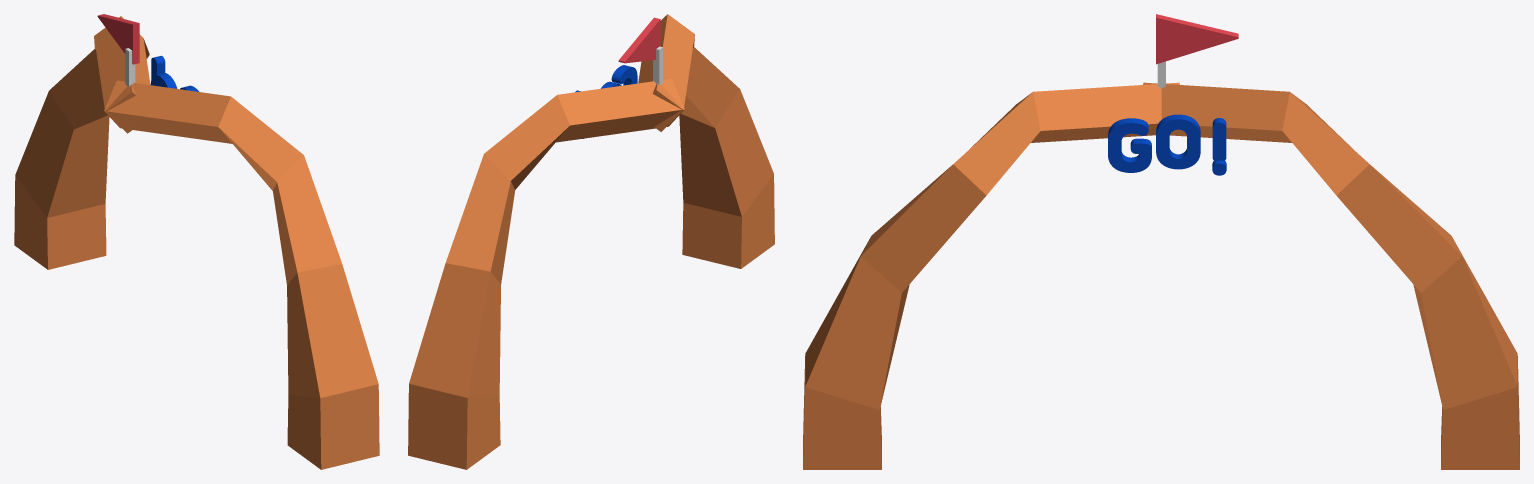
Rendered from startLine.fbx.
3 views of the same model, side by side, from view 1: azimuth 30°, elevation 25°; view 2: azimuth 150°, elevation 25°; view 3: azimuth 270°, elevation 25° (orthographic). The views are drawn at different scales.
Visible parts, largest first — view 1: Cube, Plane; view 2: Cube, Plane, Curve; view 3: Cube, Plane, Curve, Curve.001, Curve.002.
Boxes of the visible parts, bbox=[...] form: Cube: bbox=[14, 16, 379, 469]; Plane: bbox=[97, 14, 139, 64]; Cube: bbox=[408, 14, 774, 469]; Plane: bbox=[618, 17, 660, 63]; Curve: bbox=[611, 65, 637, 85]; Cube: bbox=[803, 82, 1519, 469]; Plane: bbox=[1156, 14, 1238, 64]; Curve: bbox=[1108, 118, 1151, 172]; Curve.001: bbox=[1156, 114, 1200, 169]; Curve.002: bbox=[1212, 118, 1226, 175].
Bounding box in the file's own units: 416 × 1125 × 1820.
